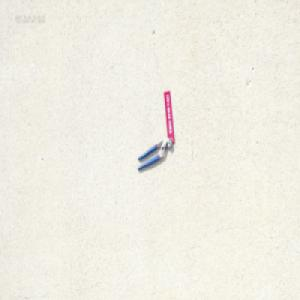Label: (163, 89, 174, 143)
Pliers: (136, 136, 172, 171)
